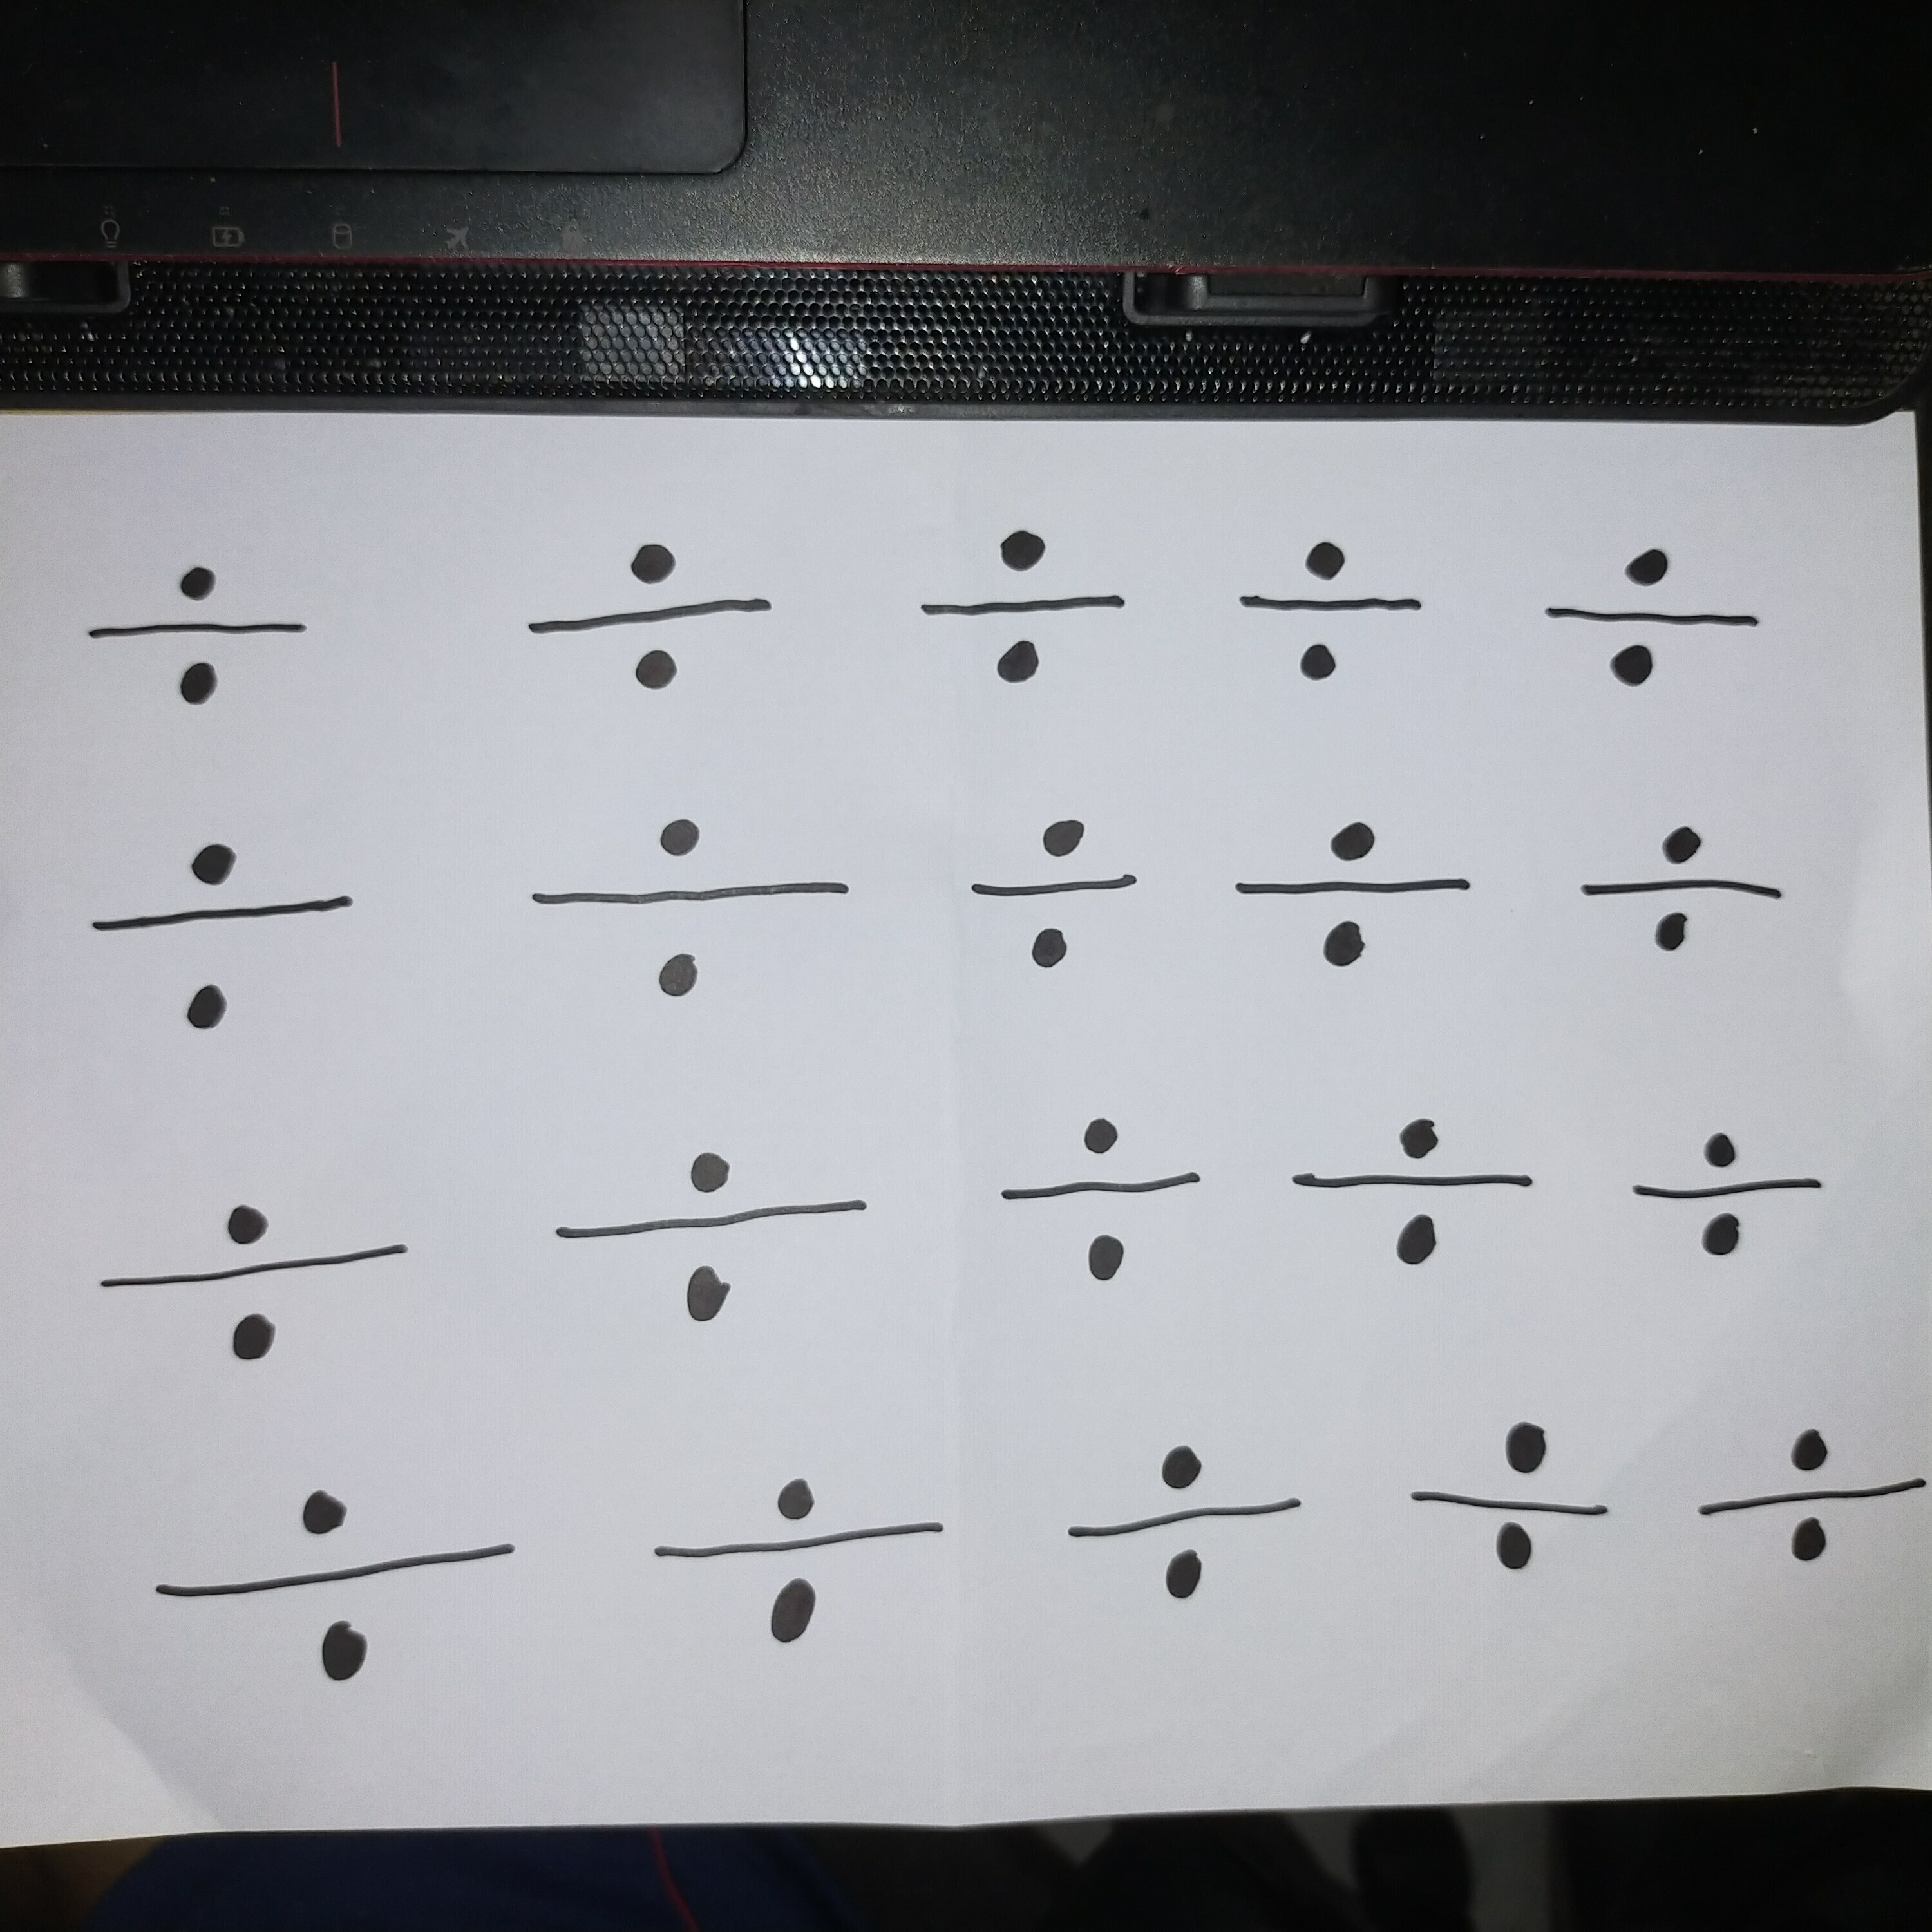div: (132, 1477, 536, 1678), (515, 806, 872, 1009), (66, 829, 384, 1047), (535, 1147, 880, 1334), (90, 1194, 425, 1369), (1034, 1430, 1319, 1621), (638, 1473, 956, 1641), (1397, 1401, 1637, 1615), (1225, 808, 1495, 985), (516, 532, 798, 696), (1285, 1106, 1551, 1274), (997, 1110, 1213, 1309), (1533, 540, 1787, 712), (903, 511, 1139, 694), (1700, 1414, 1932, 1587), (80, 556, 327, 712), (1615, 1122, 1850, 1283), (1227, 528, 1444, 698), (956, 808, 1157, 989), (1571, 808, 1797, 963)
